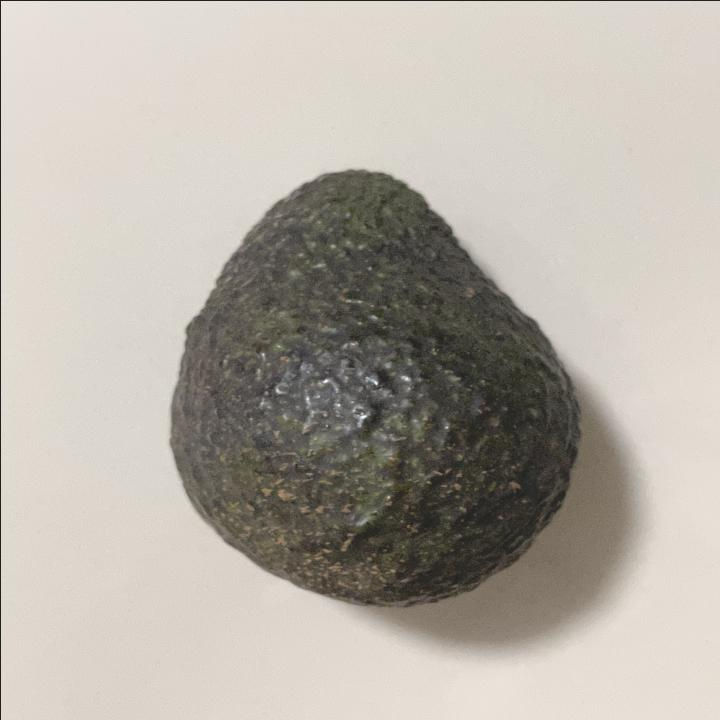Level1: (139, 156, 591, 616)
